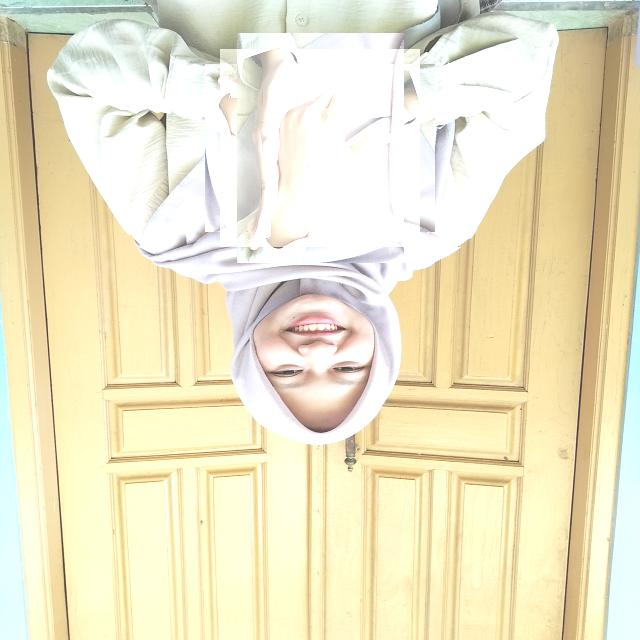cantik: (220, 49, 420, 247)
